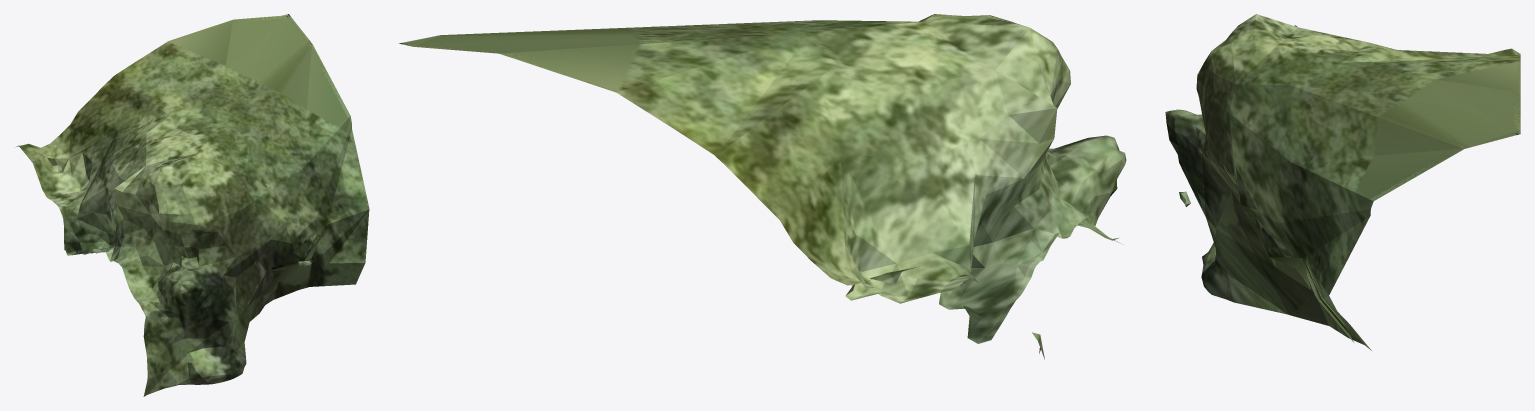
3 renders of one model, left to right at view 1: azimuth 30°, elevation 25°; view 2: azimuth 150°, elevation 25°; view 3: azimuth 270°, elevation 25°, orthographic. The views are drawn at different scales.
Bounding box in the file's own units: 5.9 × 4.71 × 5.57.
4 materials, 4 textured.
